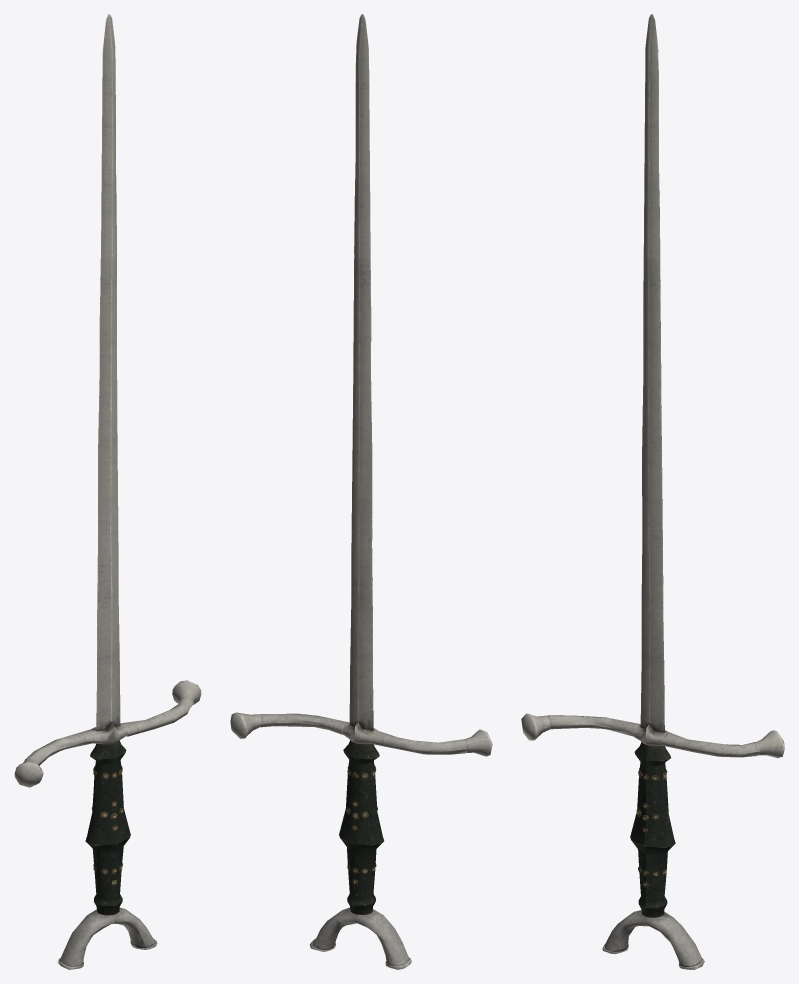
The model's file is estoc.glb.
The picture shows the model from 3 angles, left to right: view 1: azimuth 30°, elevation 25°; view 2: azimuth 150°, elevation 25°; view 3: azimuth 330°, elevation 25°; orthographic projection.
Visible parts, largest first — view 1: antique_estoc; view 2: antique_estoc; view 3: antique_estoc.
Part boxes in pixels (x1=…): antique_estoc: x1=14, y1=14, x2=201, y2=969; antique_estoc: x1=230, y1=14, x2=492, y2=969; antique_estoc: x1=521, y1=14, x2=784, y2=969.
Size of the model in its own units: 0.3716 by 1.49 by 0.1494.
Materials: 1 (1 with a texture image).
